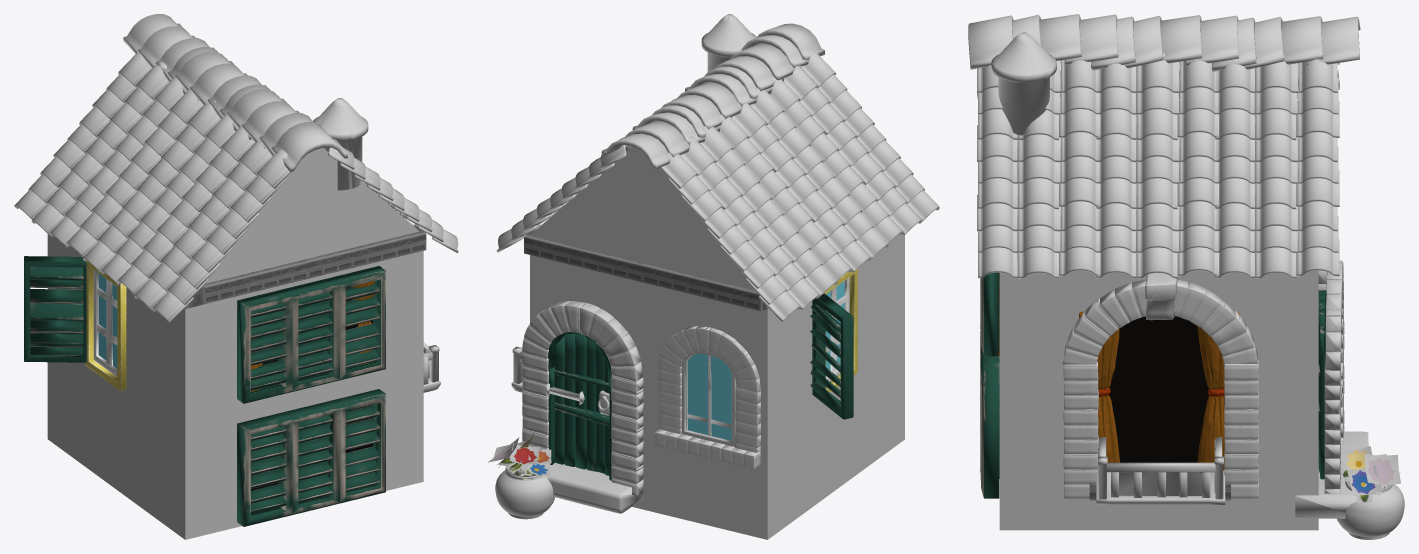
File: HouseParts.fbx
3 views of the same model, side by side, from view 1: azimuth 30°, elevation 25°; view 2: azimuth 150°, elevation 25°; view 3: azimuth 270°, elevation 25° (orthographic). The views are drawn at different scales.
Parts seen in each view (by area): view 1: Cube.044, Roof Tile 3_LP.004, WindowFrame5_LP.001, Cube.002, Cube.046, Roof Tile 5_LP.004, WindowPane.004, Cube.042, Chimney_LP.004, bALCONY; view 2: Cube.044, Roof Tile 3_LP.004, Door, Cube.047, WindowFrame, Roof Tile 5_LP.004, WindowPane.004, Cube.045, Cylinder.031, Chimney_LP.004; view 3: Roof Tile 3_LP.004, Cube.044, bALCONY, Roof Tile 5_LP.004, Door, Cylinder.031, Chimney_LP.004, WindowFrame5_LP.001, Cube.002.
Boxes of the visible parts, left/top/right/bottom form: Cube.044: left=47, top=218, right=423, bottom=539; Roof Tile 3_LP.004: left=14, top=52, right=458, bottom=323; WindowFrame5_LP.001: left=237, top=389, right=385, bottom=526; Cube.002: left=237, top=266, right=385, bottom=403; Cube.046: left=206, top=148, right=419, bottom=283; Roof Tile 5_LP.004: left=123, top=14, right=347, bottom=172; WindowPane.004: left=24, top=256, right=126, bottom=391; Cube.042: left=203, top=225, right=426, bottom=303; Chimney_LP.004: left=313, top=98, right=368, bottom=190; bALCONY: left=423, top=342, right=440, bottom=392; Cube.044: left=530, top=221, right=904, bottom=539; Roof Tile 3_LP.004: left=497, top=48, right=939, bottom=321; Door: left=514, top=301, right=643, bottom=513; Cube.047: left=530, top=146, right=754, bottom=290; WindowFrame: left=654, top=326, right=760, bottom=469; Roof Tile 5_LP.004: left=601, top=23, right=824, bottom=168; WindowPane.004: left=810, top=268, right=857, bottom=419; Cube.045: left=524, top=228, right=762, bottom=310; Cylinder.031: left=488, top=433, right=554, bottom=519; Chimney_LP.004: left=701, top=14, right=756, bottom=71; Roof Tile 3_LP.004: left=977, top=53, right=1339, bottom=278; Cube.044: left=999, top=117, right=1318, bottom=530; bALCONY: left=1062, top=273, right=1258, bottom=504; Roof Tile 5_LP.004: left=968, top=14, right=1360, bottom=71; Door: left=1295, top=260, right=1368, bottom=518; Cylinder.031: left=1337, top=446, right=1404, bottom=539; Chimney_LP.004: left=991, top=32, right=1056, bottom=137; WindowFrame5_LP.001: left=980, top=331, right=999, bottom=498; Cube.002: left=980, top=272, right=999, bottom=356.
Bounding box in the file's own units: 3690 × 4026 × 3421.
